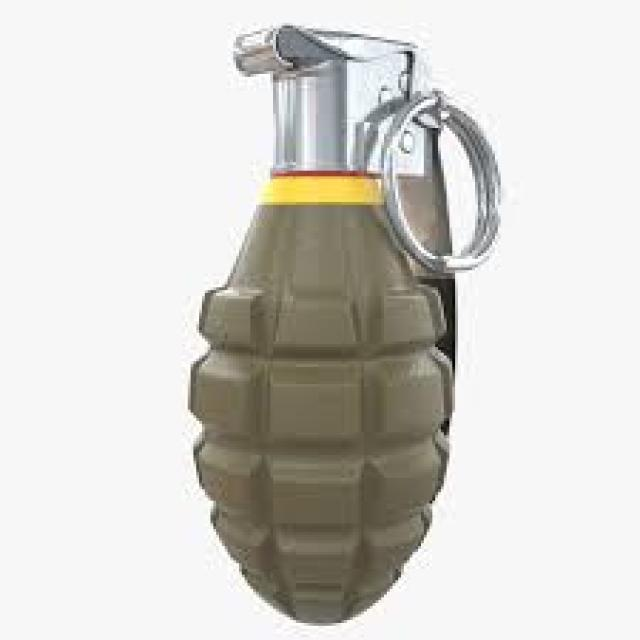grenade: (179, 17, 521, 636)
